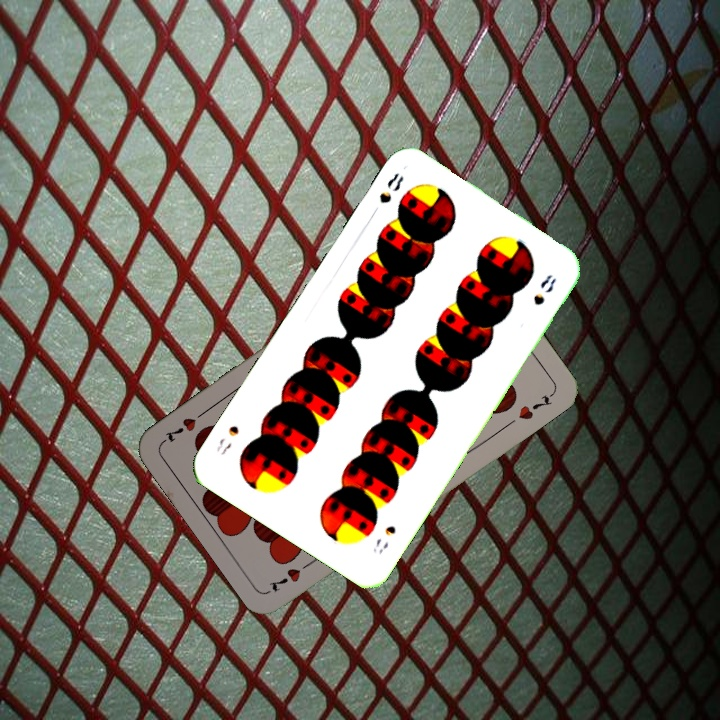H7: (265, 556, 318, 595)
S8: (375, 169, 407, 206), (368, 521, 399, 556)
